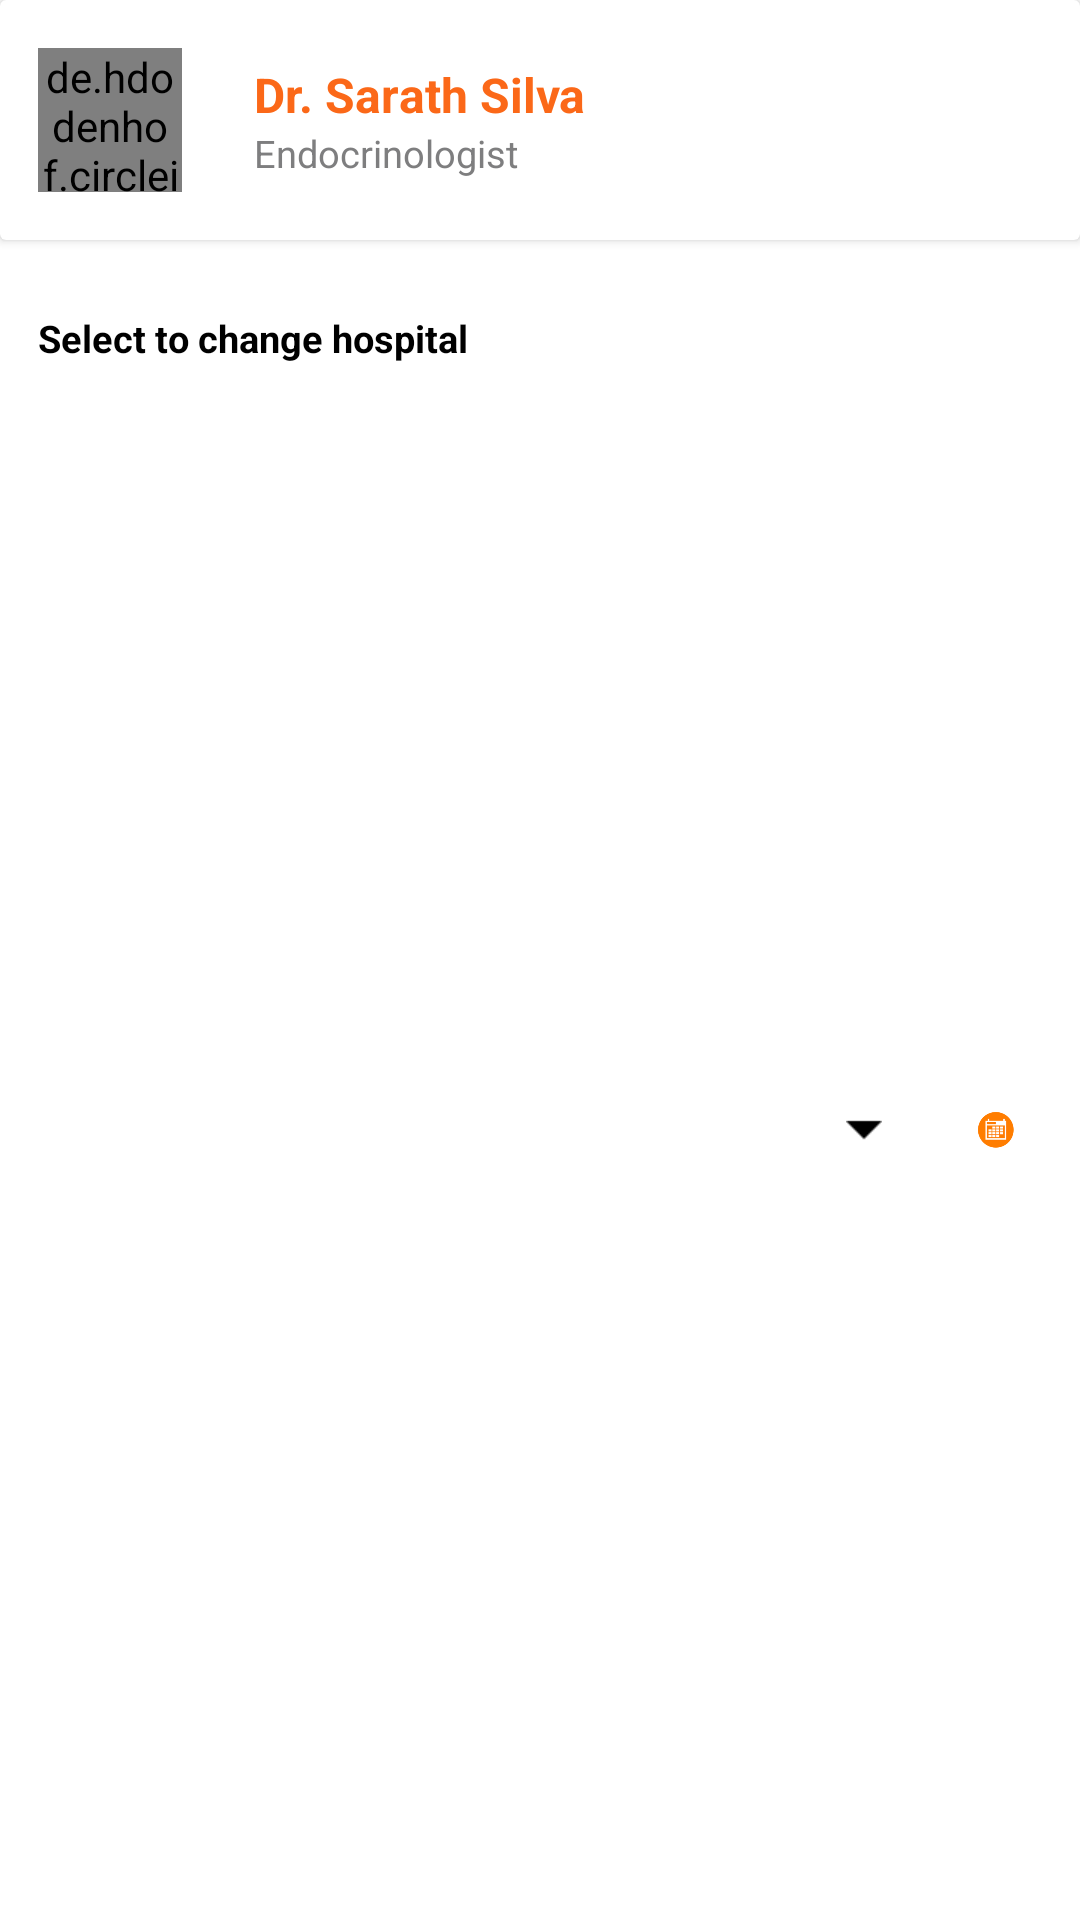

Named icons in this screenshot (1080*1920) and their centers, point (x, y):
calendar: point (996, 1130)
drop down arrow: point (864, 1129)
